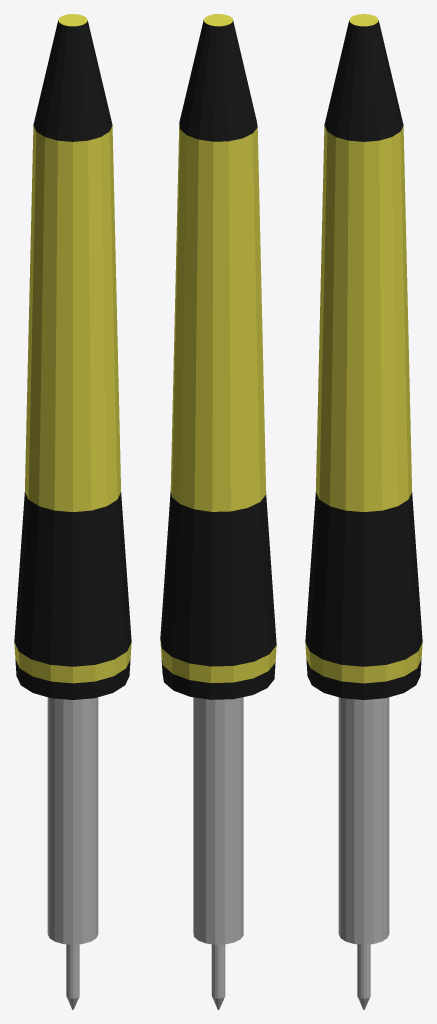
The model's file is soldering_iron.glb.
The picture shows the model from 3 angles, left to right: view 1: azimuth 90°, elevation 25°; view 2: azimuth 150°, elevation 25°; view 3: azimuth 270°, elevation 25°; orthographic projection.
Parts seen in each view (by area): view 1: Cylinder; view 2: Cylinder; view 3: Cylinder.
Part boxes in pixels (left/top/right/bottom): Cylinder: left=14, top=14, right=131, bottom=1009; Cylinder: left=160, top=14, right=276, bottom=1009; Cylinder: left=305, top=14, right=422, bottom=1009.
Bounding box in the file's own units: 1.65 × 15.31 × 1.65.
